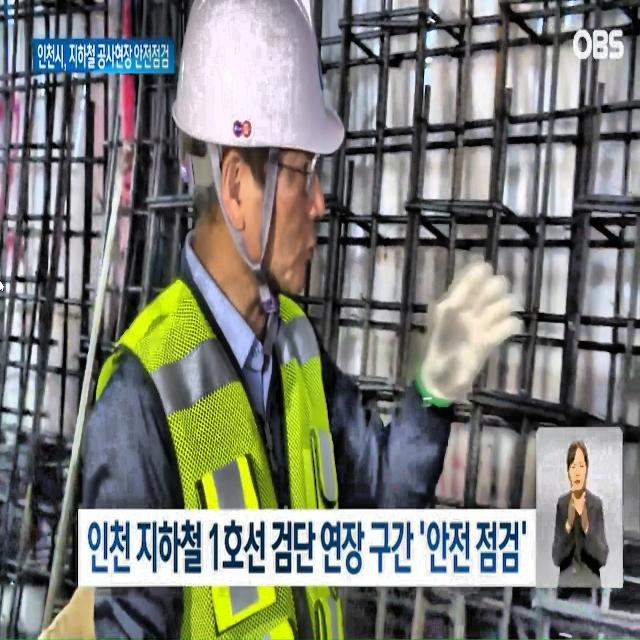safety_helmet: (172, 5, 353, 144)
safety_jacket: (98, 271, 389, 640)
